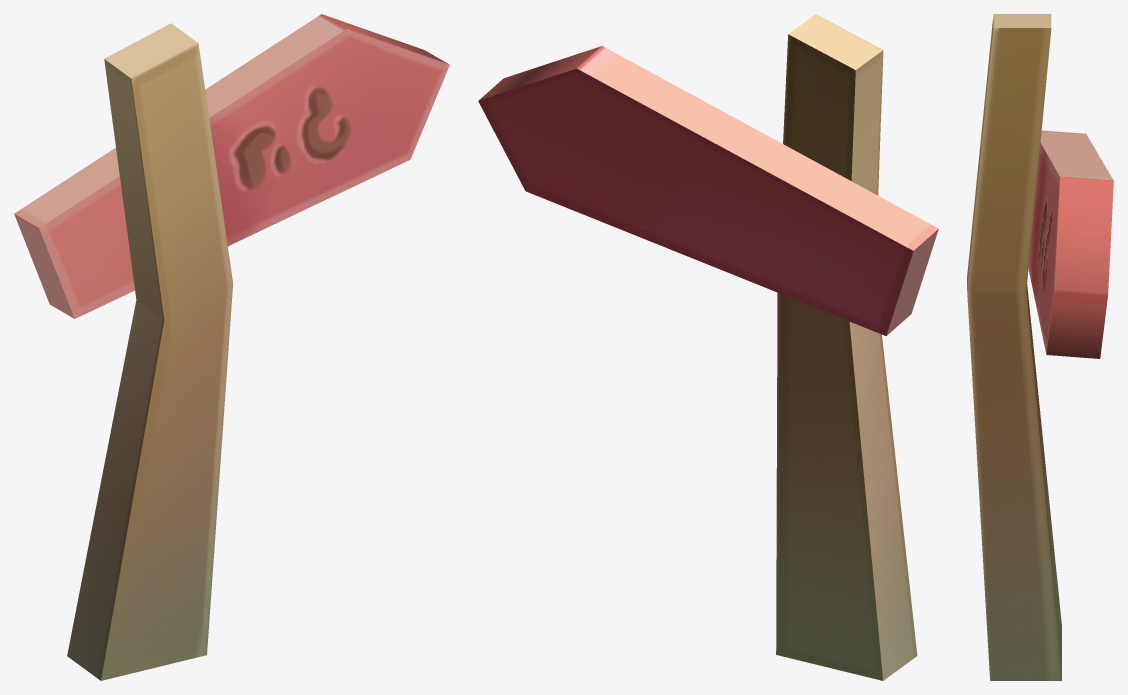
Rendered from Sign_2.FBX.
3 views of the same model, side by side, from view 1: azimuth 30°, elevation 25°; view 2: azimuth 150°, elevation 25°; view 3: azimuth 270°, elevation 25° (orthographic). The views are drawn at different scales.
Visible parts, largest first — view 1: Box011; view 2: Box011; view 3: Box011.
Part boxes in pixels (x1,y1,x2,y2): Box011: (14,14,449,680); Box011: (478,14,938,680); Box011: (967,14,1113,680).
Bounding box in the file's own units: 4.59 × 6.38 × 1.31.
